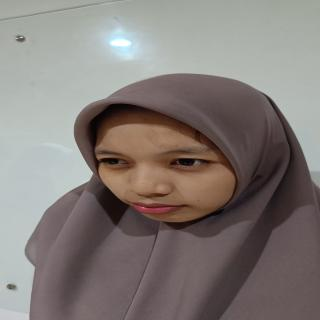Marah: (77, 101, 249, 232)
